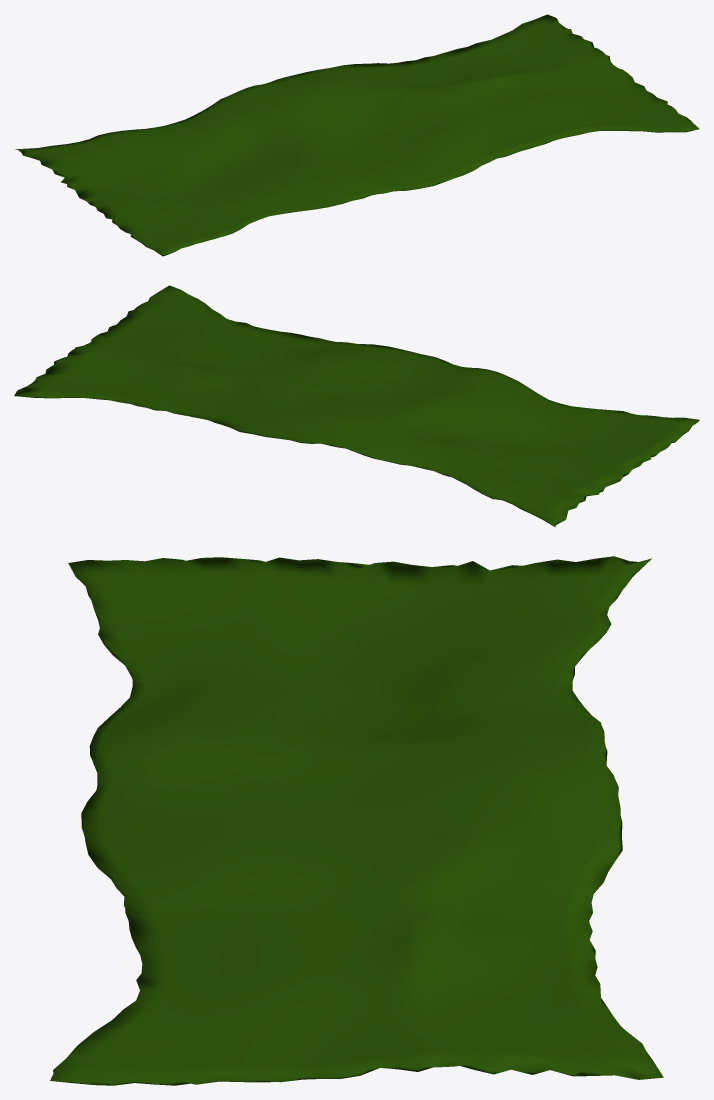
Rendered from nori.fbx.
The picture shows the model from 3 angles, top to bottom: view 1: azimuth 30°, elevation 25°; view 2: azimuth 150°, elevation 25°; view 3: azimuth 270°, elevation 25°; orthographic projection. The views are drawn at different scales.
Parts seen in each view (by area): view 1: Cube; view 2: Cube; view 3: Cube.
Boxes of the visible parts, <box> form: Cube: <box>15,14,699,256</box>; Cube: <box>14,285,699,527</box>; Cube: <box>50,556,663,1085</box>.
Bounding box in the file's own units: 410 × 17.27 × 201.
